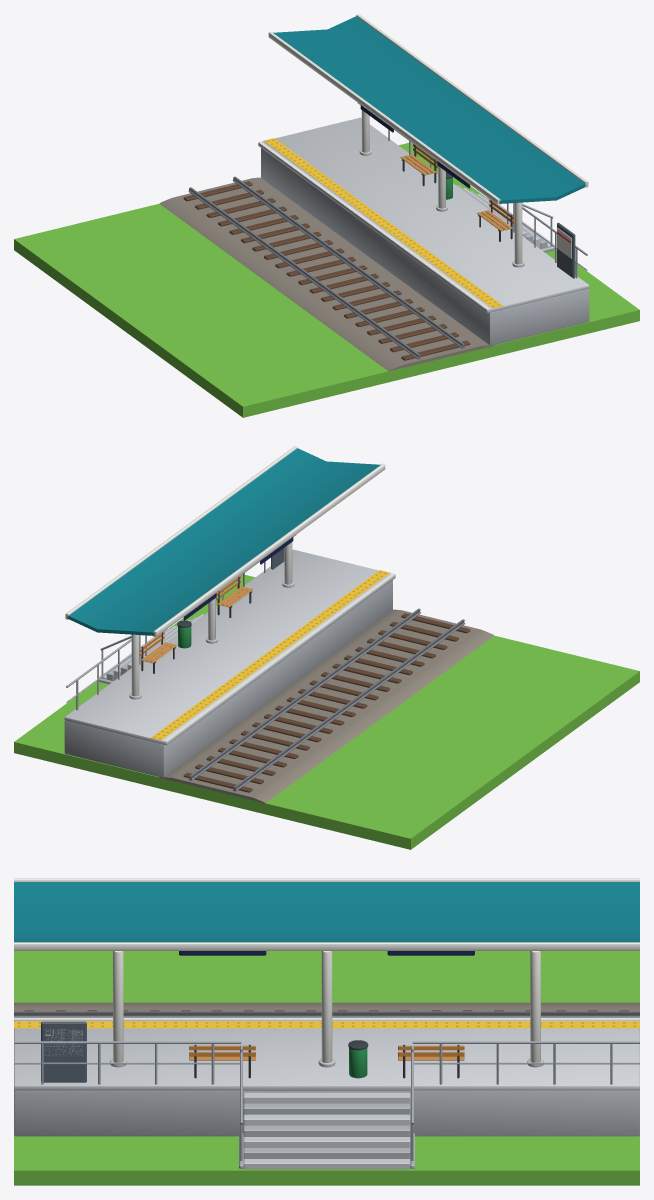
Rendered from plataforma_estacao.glb.
3 views of the same model, one above another, from view 1: azimuth 30°, elevation 25°; view 2: azimuth 150°, elevation 25°; view 3: azimuth 270°, elevation 25° (orthographic). The views are drawn at different scales.
Visible parts, largest first — view 1: plataforma_estacao; view 2: plataforma_estacao; view 3: plataforma_estacao.
Boxes of the visible parts, <box> form: plataforma_estacao: <box>14,14,639,417</box>; plataforma_estacao: <box>14,446,639,849</box>; plataforma_estacao: <box>14,878,639,1185</box>.
Bounding box in the file's own units: 15 × 5.63 × 15.
2 materials, 1 textured.
